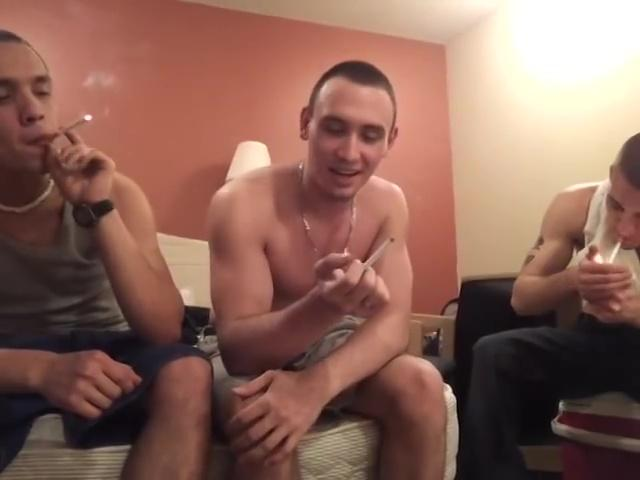cigarette: (359, 233, 400, 271), (602, 235, 631, 265), (61, 112, 97, 136)
